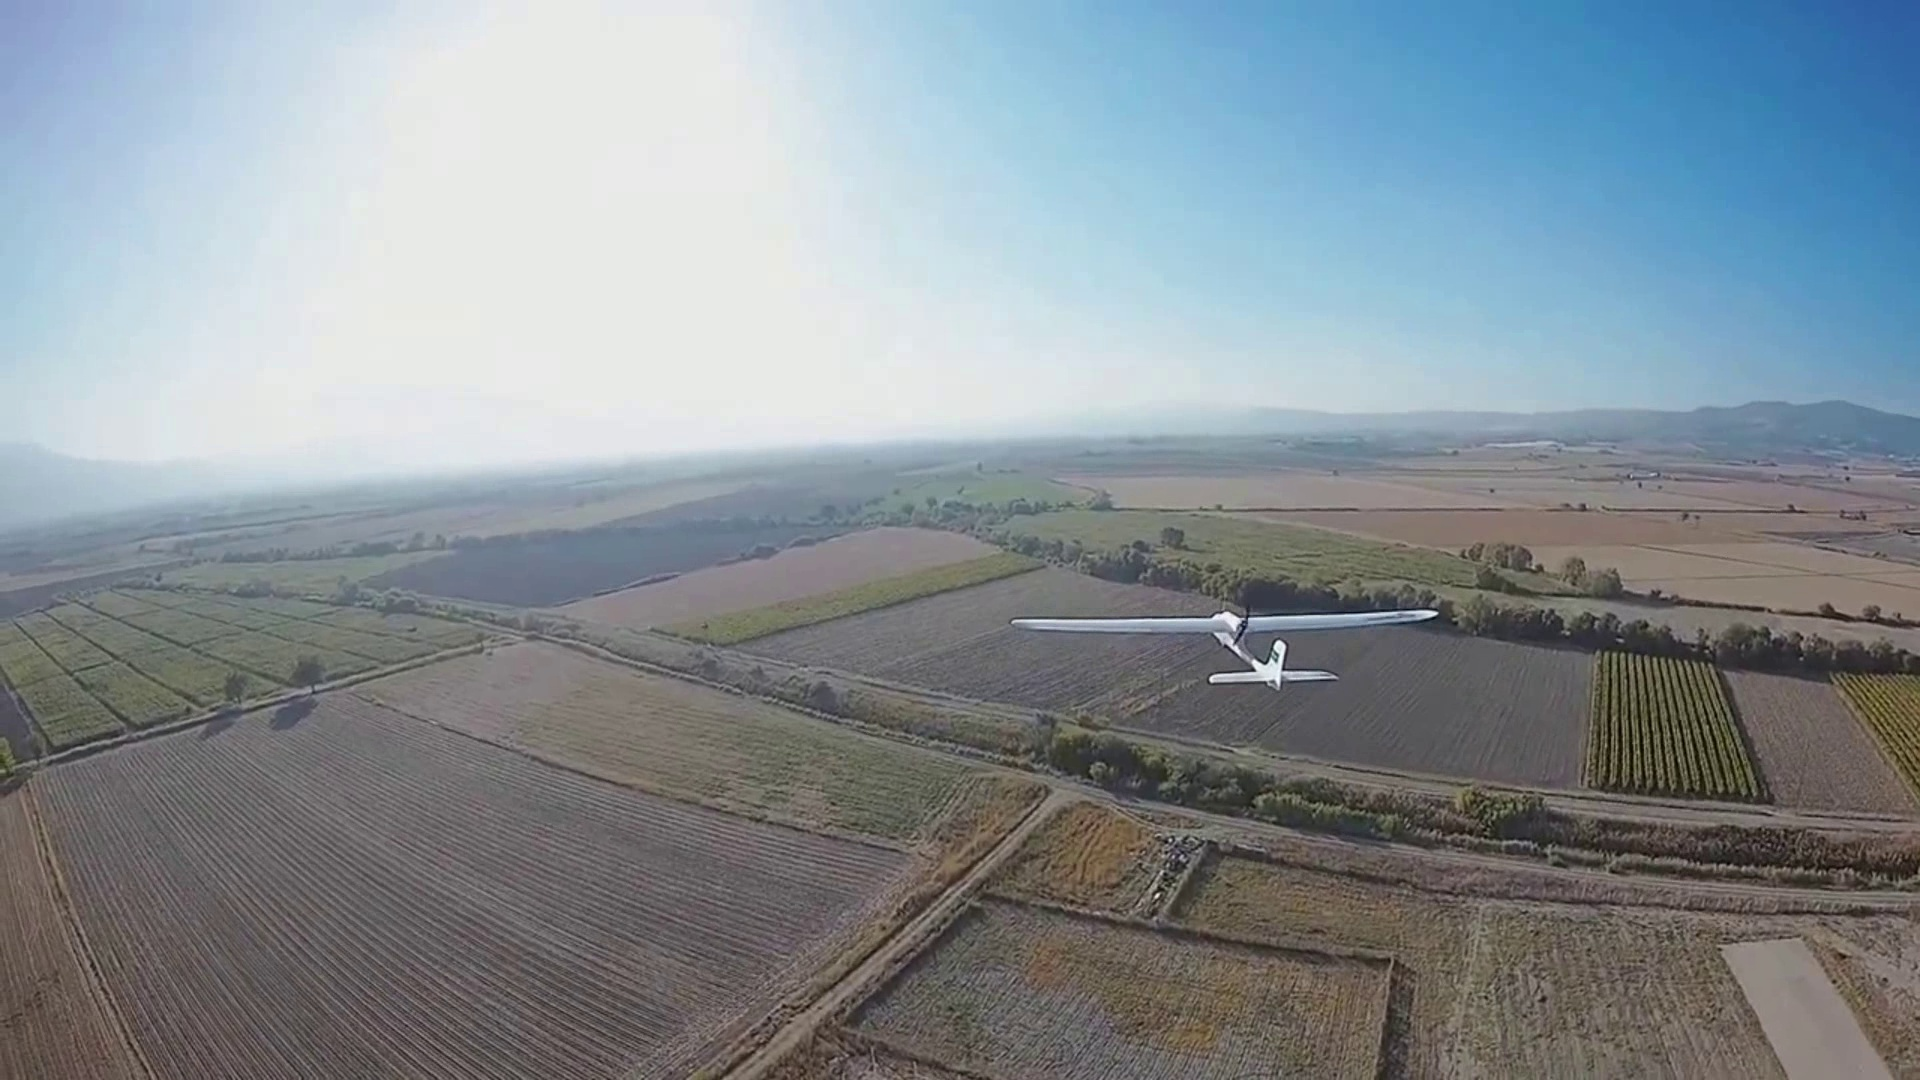airplane: (1207, 609, 1292, 686)
